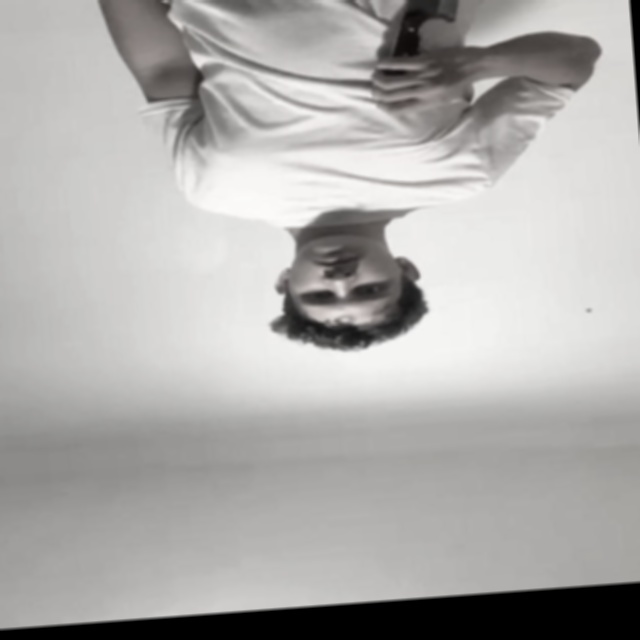Sharp-Object: (395, 0, 490, 26)
